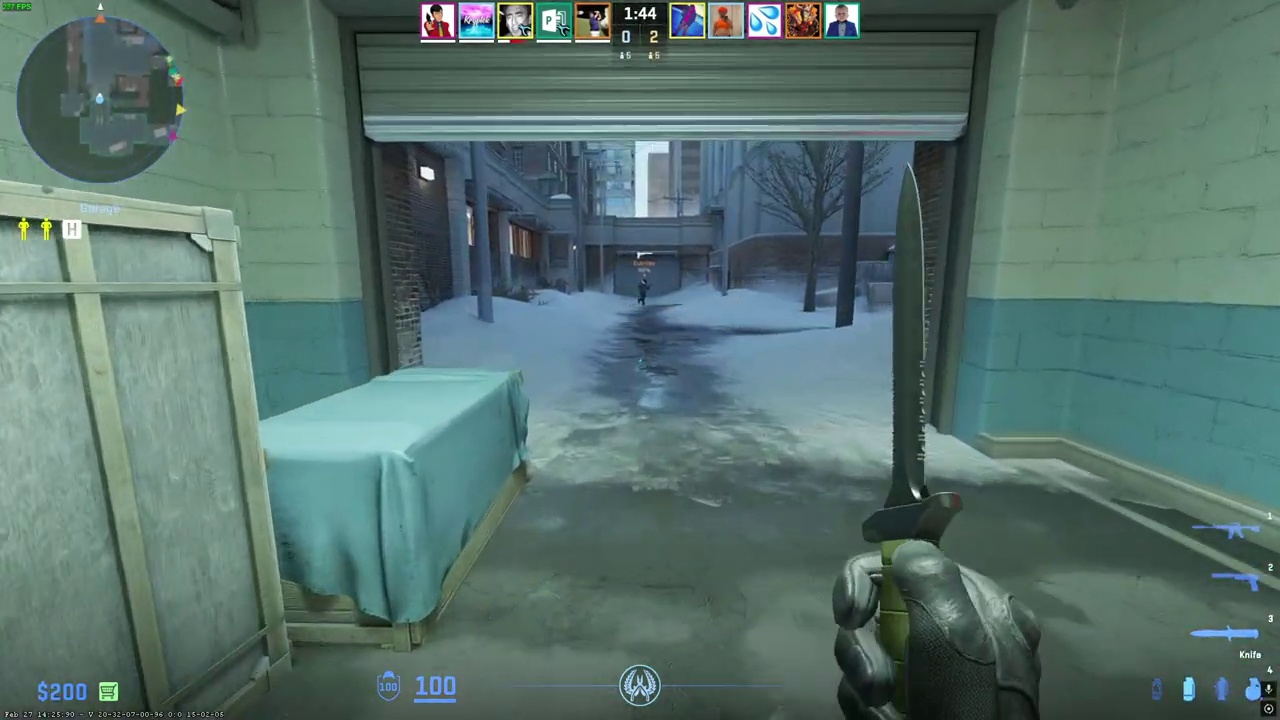CT: (637, 278, 649, 305)
